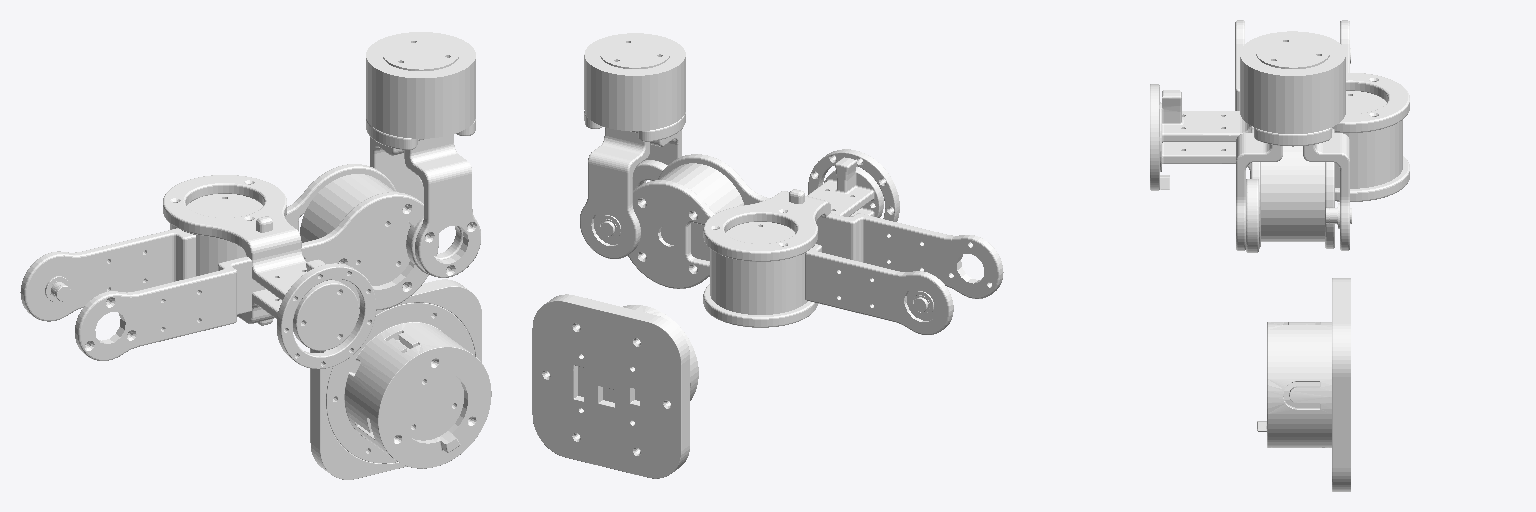
robot.urdf — tandem_mani:
<?xml version="1.0"?>
<!-- This URDF was automatically created by SolidWorks to URDF Exporter! Originally created by [author] ([email redacted]) 
     Commit Version: 1.6.0-4-g7f85cfe  Build Version: 1.6.7995.38578
     For more information, please see http://wiki.ros.org/sw_urdf_exporter -->
<robot
  name="tandem_mani">

<!-- world link -->
  <link name="world"/>

  <joint name="joint_fix" type="fixed">
    <origin
      xyz="-0 -0 0"
      rpy="-1.5708 0 0" />
	<parent link="world"/>
	<child link="base_link"/>
  </joint>

  <link
    name="base_link">
    <inertial>
      <origin
        xyz="-0.00012418 -0.015731 0"
        rpy="0 0 0" />
      <mass
        value="0.2" />
      <inertia
        ixx="1.0" ixy="0.0" ixz="0.0"
        iyy="1.0" iyz="0.0"
        izz="1.0"/>
    </inertial>
    <visual>
      <origin
        xyz="0 0 0"
        rpy="0 0 0" />
      <geometry>
        <mesh
          filename="package://tandem_mani/meshes/base_link.STL" />
      </geometry>
      <material
        name="">
        <color
          rgba="1 1 1 1" />
      </material>
    </visual>
  </link>
  <link
    name="link1">
    <inertial>
      <origin
        xyz="-1.671E-05 -0.040968 -0.00054586"
        rpy="0 0 0" />
      <mass
        value="0.2" />
      <inertia
        ixx="1.0" ixy="0.0" ixz="0.0"
        iyy="1.0" iyz="0.0"
        izz="1.0"/>
    </inertial>
    <visual>
      <origin
        xyz="0 0 0"
        rpy="0 0 0" />
      <geometry>
        <mesh
          filename="package://tandem_mani/meshes/link1.STL" />
      </geometry>
      <material
        name="">
        <color
          rgba="1 1 1 1" />
      </material>
    </visual>
  </link>
  <joint
    name="joint1"
    type="revolute">
    <origin
      xyz="-0.00015771 -0.0416 0"
      rpy="0 0 0" />
    <parent
      link="base_link" />
    <child
      link="link1" />
    <axis
      xyz="0 1 0" />
    <limit
      lower="-30"
      upper="30"
      effort="100"
      velocity="100" />
  </joint>
  <link
    name="link2">
    <inertial>
      <origin
        xyz="-0.057534 3.7398E-05 0.028177"
        rpy="0 0 0" />
      <mass
        value="0.2" />
      <inertia
        ixx="1.0" ixy="0.0" ixz="0.0"
        iyy="1.0" iyz="0.0"
        izz="1.0"/>
    </inertial>
    <visual>
      <origin
        xyz="0 0 0"
        rpy="0 0 0" />
      <geometry>
        <mesh
          filename="package://tandem_mani/meshes/link2.STL" />
      </geometry>
      <material
        name="">
        <color
          rgba="1 1 1 1" />
      </material>
    </visual>
  </link>
  <joint
    name="joint2"
    type="revolute">
    <origin
      xyz="0 -0.0512 -0.029"
      rpy="0 0 0" />
    <parent
      link="link1" />
    <child
      link="link2" />
    <axis
      xyz="0 0 -1" />
    <limit
      lower="-30"
      upper="30"
      effort="100"
      velocity="100" />
  </joint>
  <link
    name="link3">
    <inertial>
      <origin
        xyz="-0.080231 -3.4126E-05 -0.00028762"
        rpy="0 0 0" />
      <mass
        value="0.2" />
      <inertia
        ixx="1.0" ixy="0.0" ixz="0.0"
        iyy="1.0" iyz="0.0"
        izz="1.0"/>
    </inertial>
    <visual>
      <origin
        xyz="0 0 0"
        rpy="0 0 0" />
      <geometry>
        <mesh
          filename="package://tandem_mani/meshes/link3.STL" />
      </geometry>
      <material
        name="">
        <color
          rgba="1 1 1 1" />
      </material>
    </visual>
  </link>
  <joint
    name="joint3"
    type="revolute">
    <origin
      xyz="-0.0923 0 0.0285"
      rpy="0 0 0" />
    <parent
      link="link2" />
    <child
      link="link3" />
    <axis
      xyz="1 0 0" />
    <limit
      lower="-30"
      upper="30"
      effort="100"
      velocity="100" />
  </joint>
  <link
    name="link4">
    <inertial>
      <origin
        xyz="-0.12453 -2.9587E-05 0.028547"
        rpy="0 0 0" />
      <mass
        value="0.2" />
      <inertia
        ixx="1.0" ixy="0.0" ixz="0.0"
        iyy="1.0" iyz="0.0"
        izz="1.0"/>
    </inertial>
    <visual>
      <origin
        xyz="0 0 0"
        rpy="0 0 0" />
      <geometry>
        <mesh
          filename="package://tandem_mani/meshes/link4.STL" />
      </geometry>
      <material
        name="">
        <color
          rgba="1 1 1 1" />
      </material>
    </visual>
  </link>
  <joint
    name="joint4"
    type="revolute">
    <origin
      xyz="-0.0965 0 -0.0287"
      rpy="0 0 0" />
    <parent
      link="link3" />
    <child
      link="link4" />
    <axis
      xyz="0 0 -1" />
    <limit
      lower="-30"
      upper="30"
      effort="100"
      velocity="100" />
  </joint>
</robot>

--- What the picture shows (computed from the rendered views, not written in the file) ---
Views: 3 orthographic renders of the robot side by side, from view 1: azimuth 30°, elevation 25°; view 2: azimuth 150°, elevation 25°; view 3: azimuth 270°, elevation 25°.
Robot: tandem_mani — 6 links, 5 joints (4 revolute, 1 fixed); root link world; default pose: every joint at zero.
Visible links, largest first — view 1: link4, base_link, link2, link3; view 2: link4, base_link, link3, link2; view 3: link2, link3, base_link, link4.
Link boxes in pixels (x1,y1,x2,y2): link4: (20, 164, 438, 360); base_link: (310, 279, 491, 479); link2: (366, 32, 480, 277); link3: (163, 175, 375, 368); link4: (628, 154, 1003, 334); base_link: (532, 294, 698, 478); link3: (703, 149, 899, 327); link2: (580, 33, 685, 258); link2: (1236, 31, 1351, 252); link3: (1150, 73, 1409, 201); base_link: (1257, 278, 1350, 491); link4: (1235, 20, 1350, 248).
Bounding box of the posed robot: 0.2516 × 0.13 × 0.2279 m (x, y, z).
4 mesh visuals loaded from 5 distinct referenced files (4 binary STL); not drawn: 1 (reference not matched to a file when rendering).